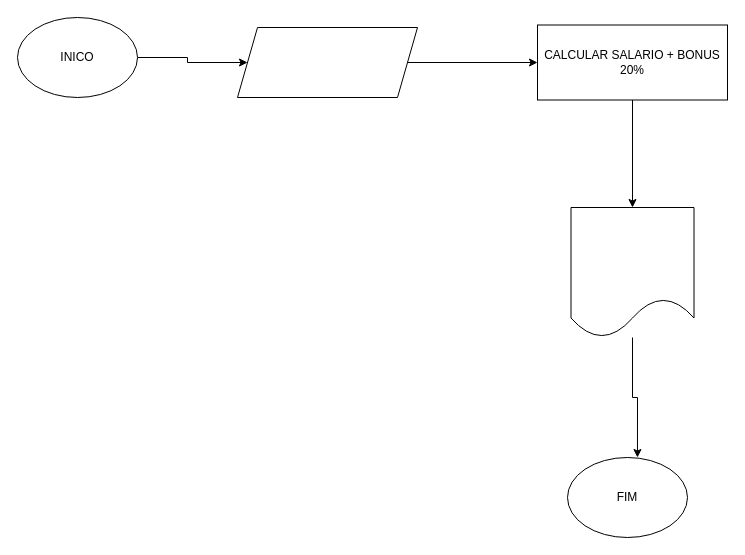
The diagram is 745 pixels wide and 555 high, and some of its shapes have lost their labels. Here are the shapes that lost their labels. From the top down, the centre of each, then its label:
At pixel 327 62: "INFORME O SALARIO E BONUS 20%".
At pixel 632 272: "EXIBIR O RESULTADO DO SALARIO".
